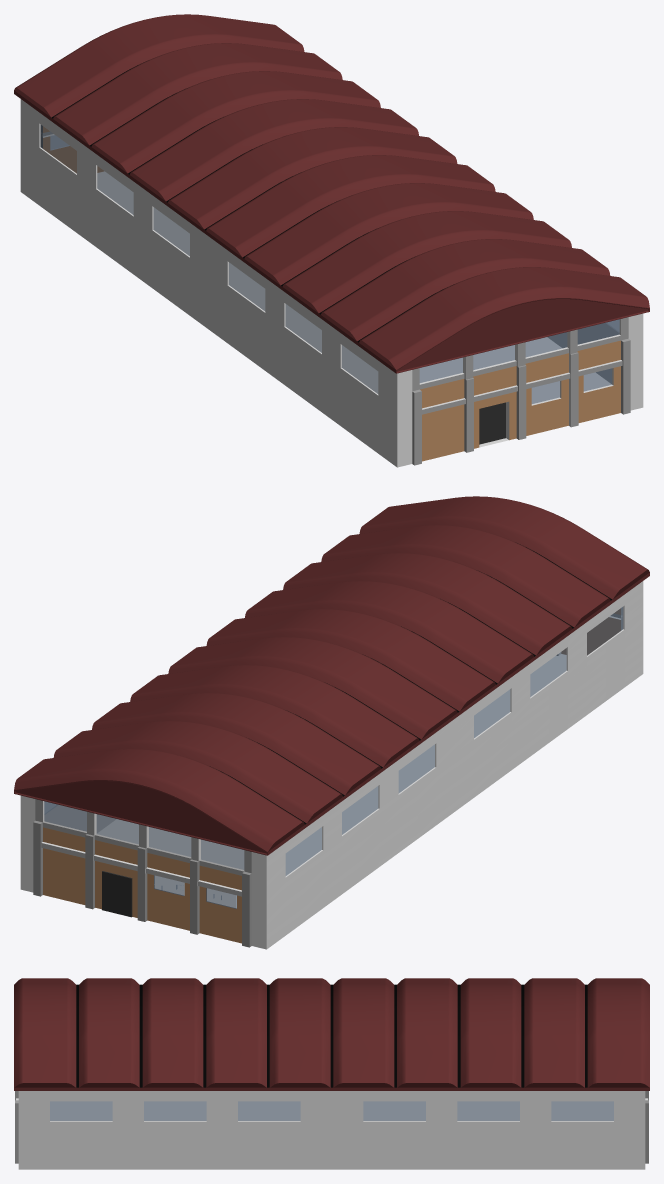
Rendered from gdck.fbx.
The picture shows the model from 3 angles, top to bottom: view 1: azimuth 30°, elevation 25°; view 2: azimuth 150°, elevation 25°; view 3: azimuth 270°, elevation 25°; orthographic projection. The views are drawn at different scales.
Parts seen in each view (by area): view 1: pCube2, pCube1; view 2: pCube2, pCube1; view 3: pCube2, pCube1.
Boxes of the visible parts, bbox=[...] form: pCube2: bbox=[14, 14, 649, 373]; pCube1: bbox=[20, 99, 643, 467]; pCube2: bbox=[14, 496, 649, 855]; pCube1: bbox=[20, 581, 643, 949]; pCube2: bbox=[14, 978, 649, 1090]; pCube1: bbox=[15, 1091, 648, 1169].
Bounding box in the file's own units: 22.38 × 11.91 × 57.33.
